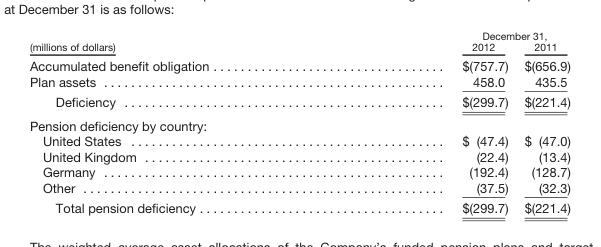table: (28, 29, 569, 215)
table column: (28, 29, 334, 215), (334, 29, 515, 215), (515, 29, 569, 215)
table column header: (28, 29, 569, 55)
table projected row header: (28, 113, 569, 132)
table row: (28, 91, 569, 113), (28, 113, 569, 132), (28, 55, 569, 73), (28, 73, 569, 91), (28, 179, 569, 197), (28, 197, 569, 215), (28, 132, 569, 148), (28, 163, 569, 179), (28, 40, 569, 55), (28, 148, 569, 163), (28, 29, 569, 40)
table spanning cell: (28, 29, 334, 55), (334, 29, 569, 40)
